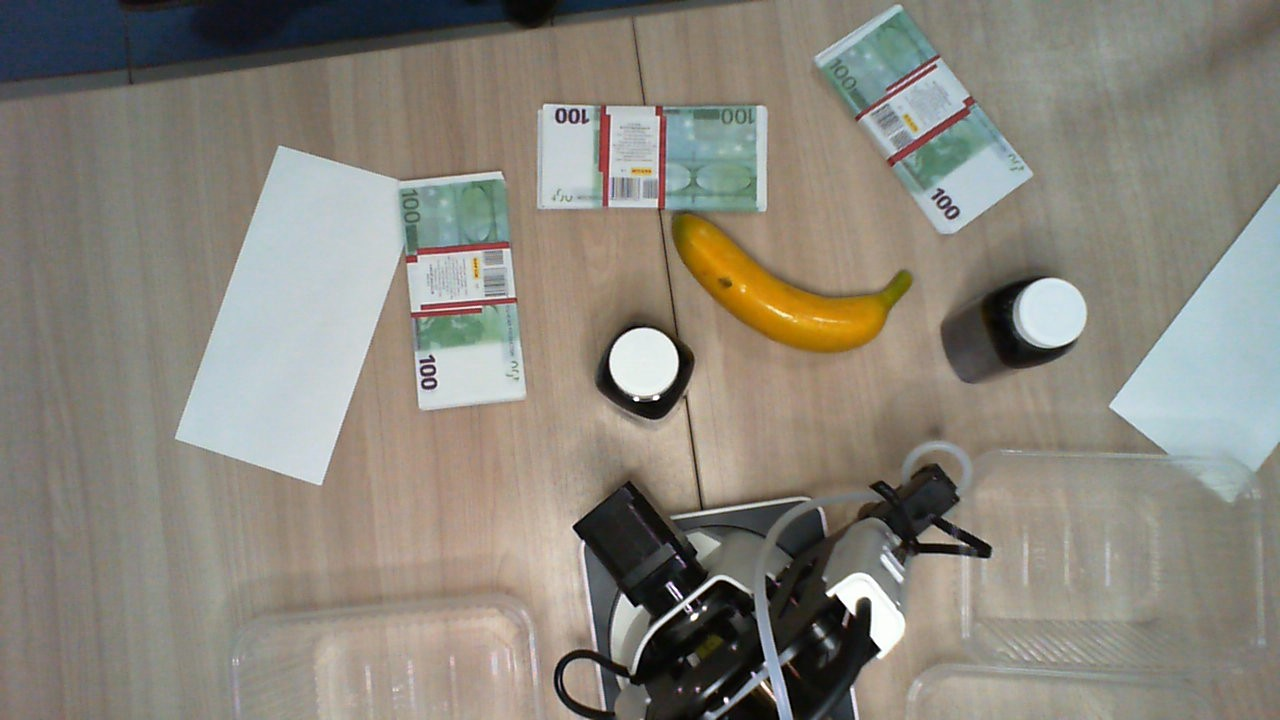banana: (669, 211, 915, 352)
bottle: (985, 271, 1093, 363), (594, 320, 696, 415)
convert: (175, 143, 418, 489), (1111, 183, 1279, 499)
money: (815, 3, 1031, 230), (398, 170, 525, 410), (536, 101, 769, 215)
